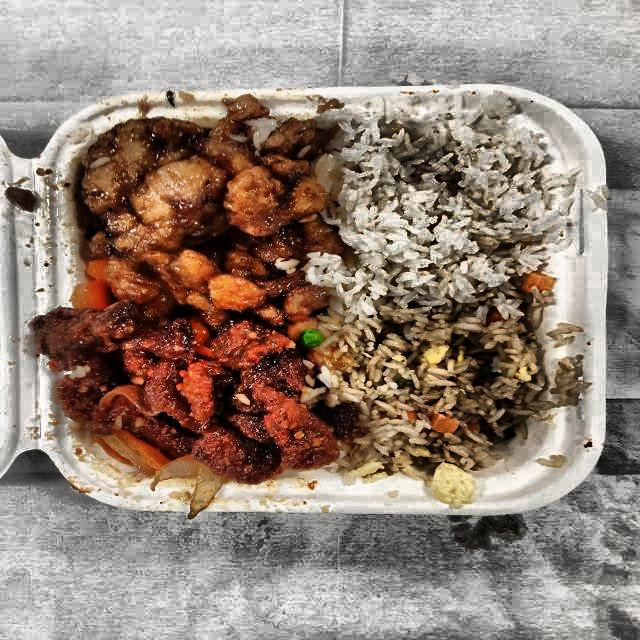Food: (25, 298, 339, 496), (68, 102, 333, 303), (311, 304, 590, 490), (332, 106, 570, 300)
